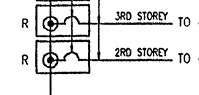Single Phase Tap-Off Unit: (32, 38, 93, 77), (32, 3, 91, 39)
